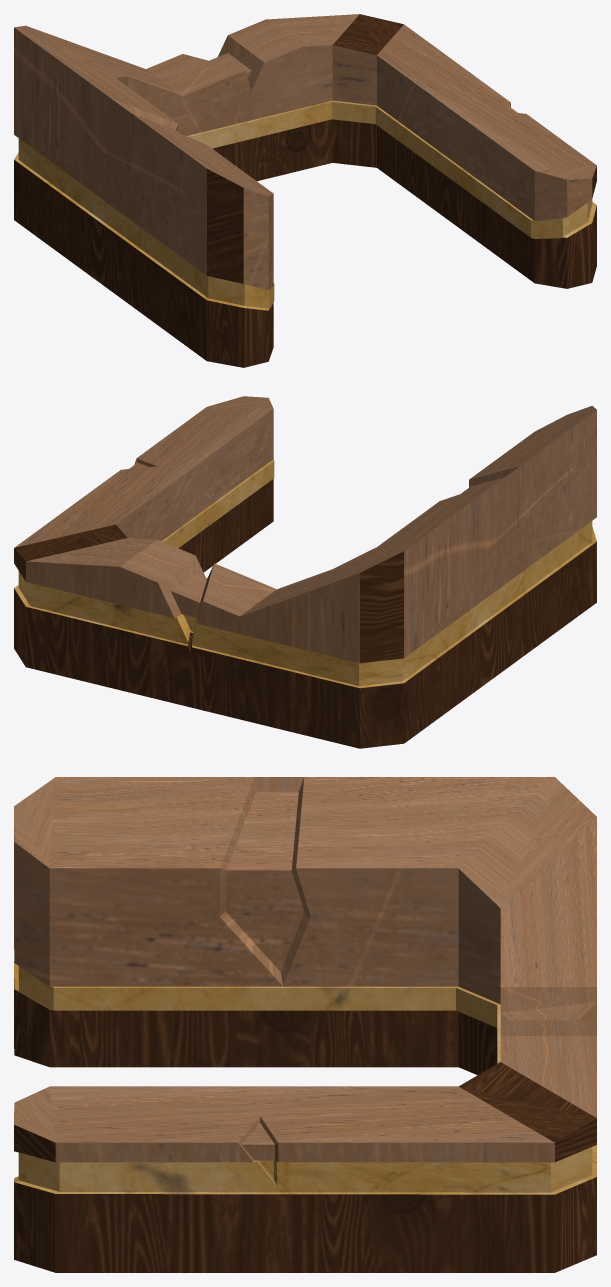
File: broken_chair_1.fbx
The picture shows the model from 3 angles, top to bottom: view 1: azimuth 30°, elevation 25°; view 2: azimuth 150°, elevation 25°; view 3: azimuth 270°, elevation 25°; orthographic projection. The views are drawn at different scales.
Parts seen in each view (by area): view 1: Cube.011; view 2: Cube.011; view 3: Cube.011.
Part boxes in pixels (x1,y1,x2,y2): Cube.011: (14,14,596,367); Cube.011: (14,396,596,748); Cube.011: (14,777,596,1272).
Bounding box in the file's own units: 46.12 × 21.76 × 46.1.
Materials: 3 (3 with a texture image).
